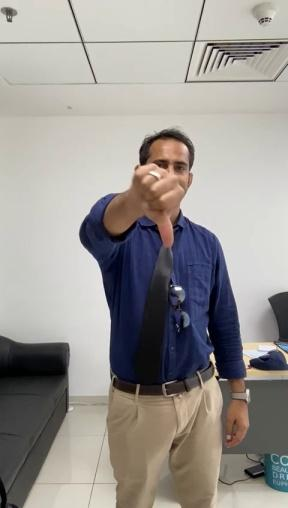thumbs-down: (127, 155, 187, 249)
